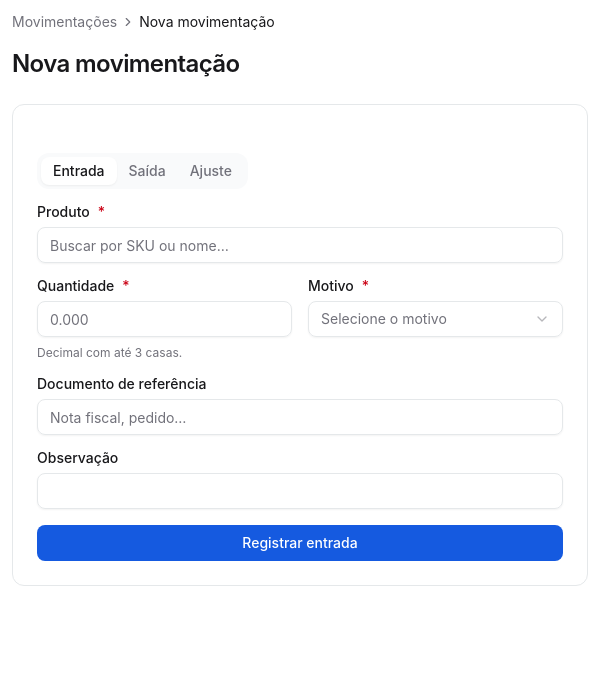
MovementNewPage › produto inativo (409) mostra mensagem compreensível
Type "chave" into the dropdown with placeholder "Buscar por SKU ou nome…".
click(300, 245); type("chave")  # box [37,227,563,263]
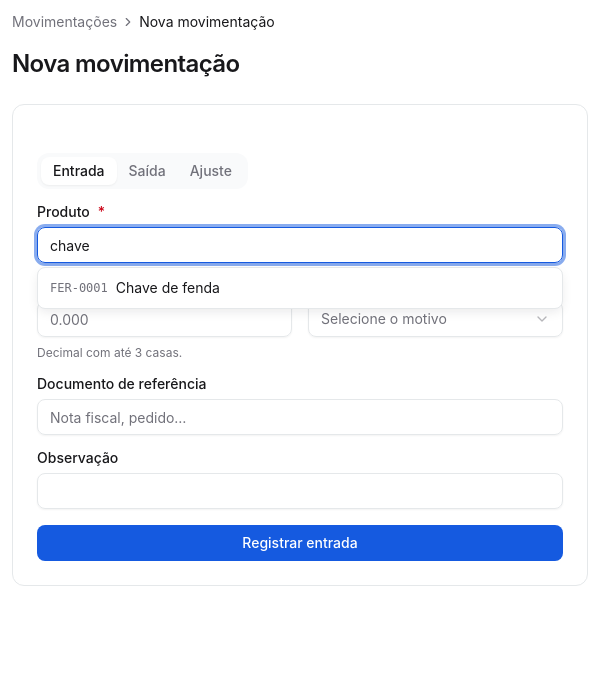
Click the button "FER-0001 Chave de fenda".
click(79, 288)  # box [42,272,558,304]
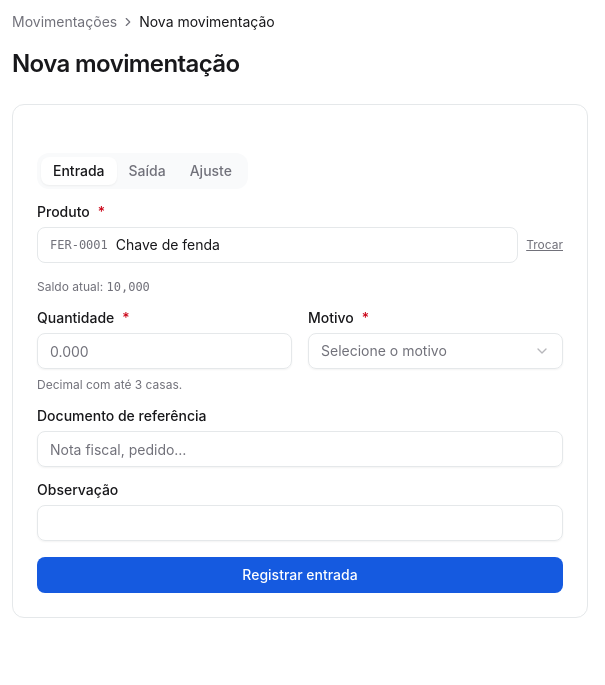
Type "1.000" into the field with placeholder "0.000".
click(164, 351); type("1.000")  # box [37,333,292,369]
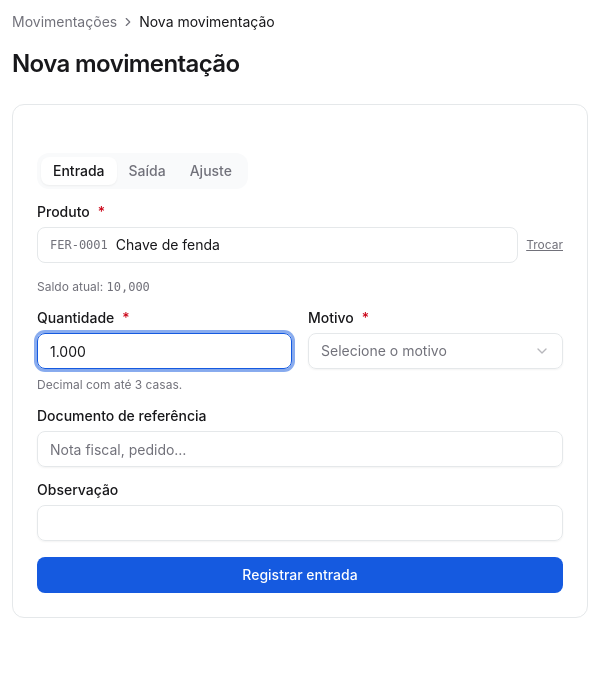
Click the dropdown labelled "Selecione o motivo".
click(436, 351)  # box [308,333,563,369]
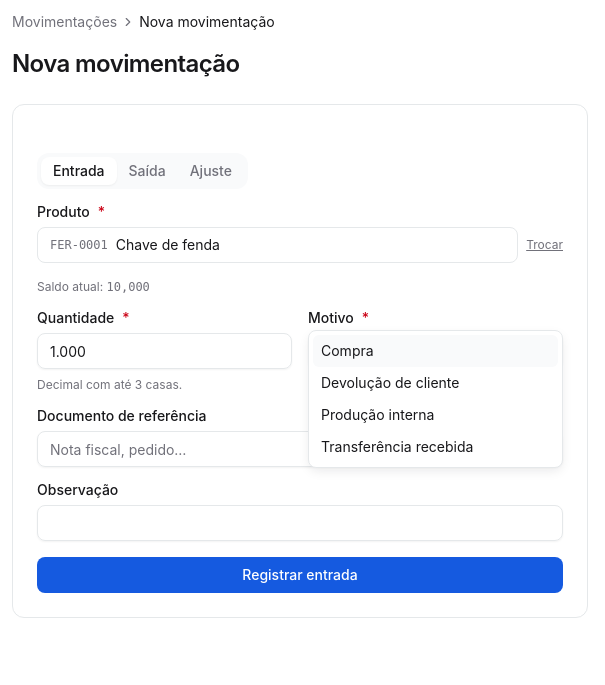
Click the option "Compra".
click(436, 351)  # box [313,335,558,367]
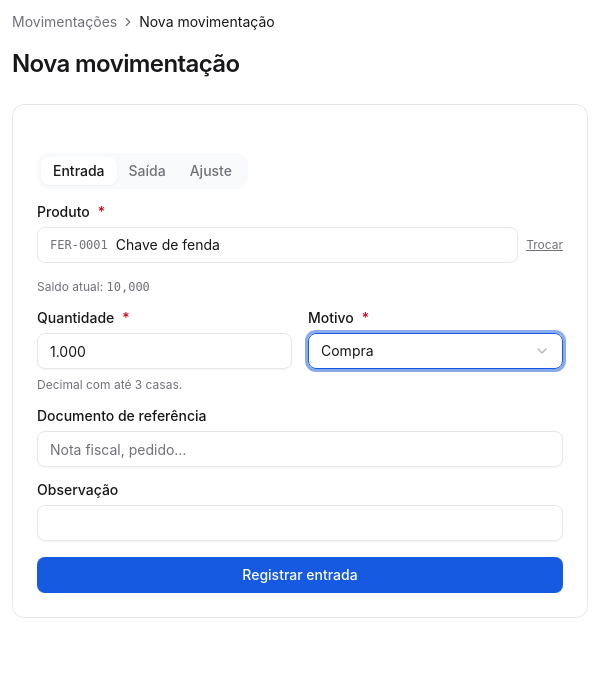
Click the button "Registrar entrada".
click(300, 575)  # box [37,557,563,593]
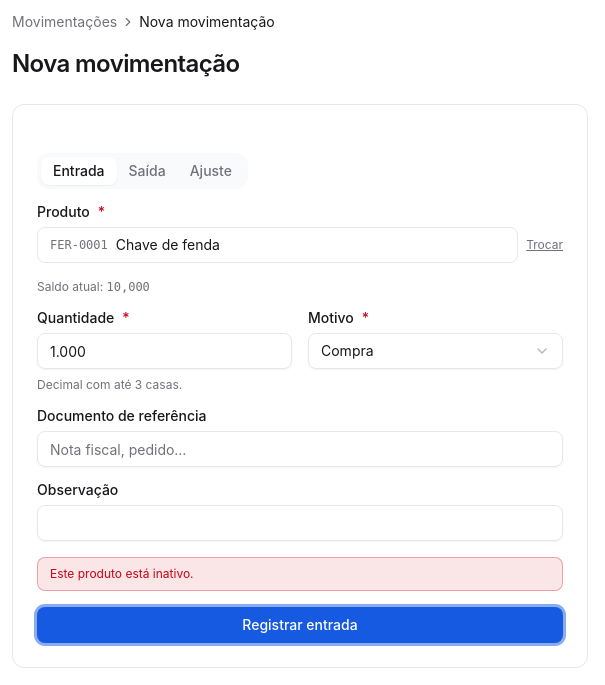
Expected: the text "Este produto está inativo." is shown, [37,557,563,591]
